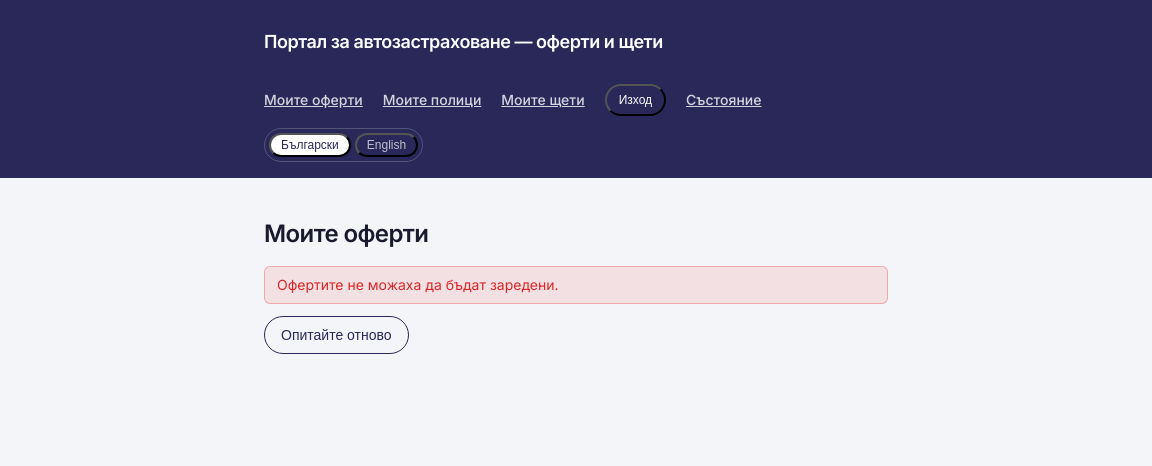
MyQuotes › shows the error state and a working retry on a failed load
Expected: the message "Офертите не можаха да бъдат заредени." is shown, [264,266,888,304]
Step 1. Click the button "Опитайте отново" → (336, 335), box [264,316,409,354]
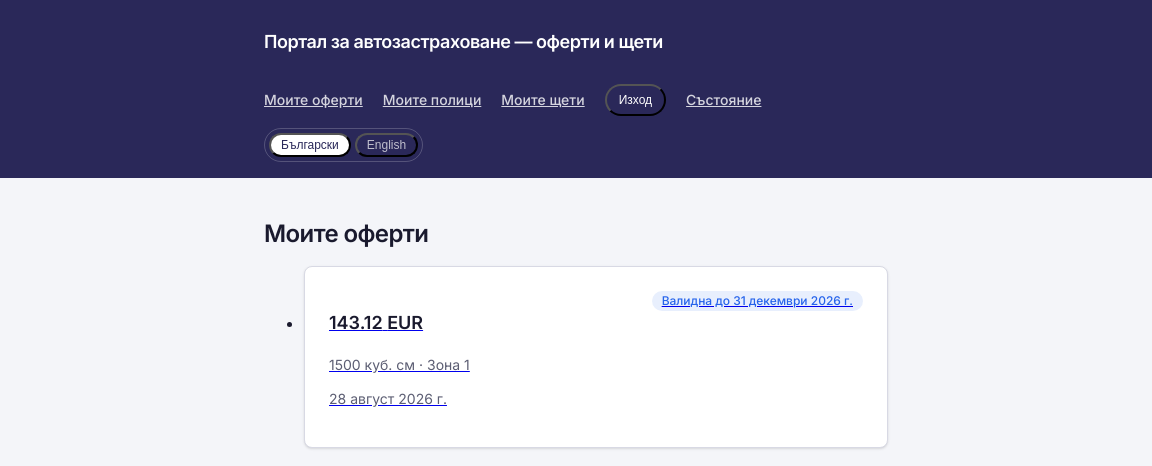
Expected: the list with test id "quotes-list" is shown, [264,266,888,448]
